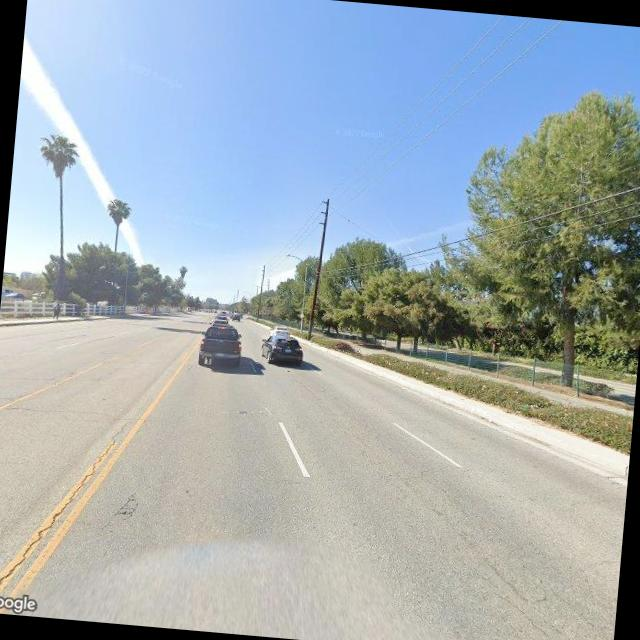crack: (0, 403, 130, 602), (105, 486, 142, 523)
